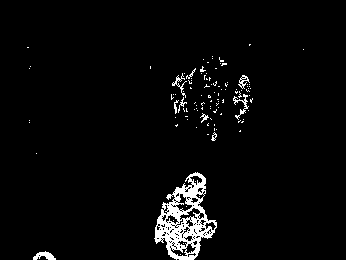person: (153, 169, 219, 260), (233, 73, 255, 135)
